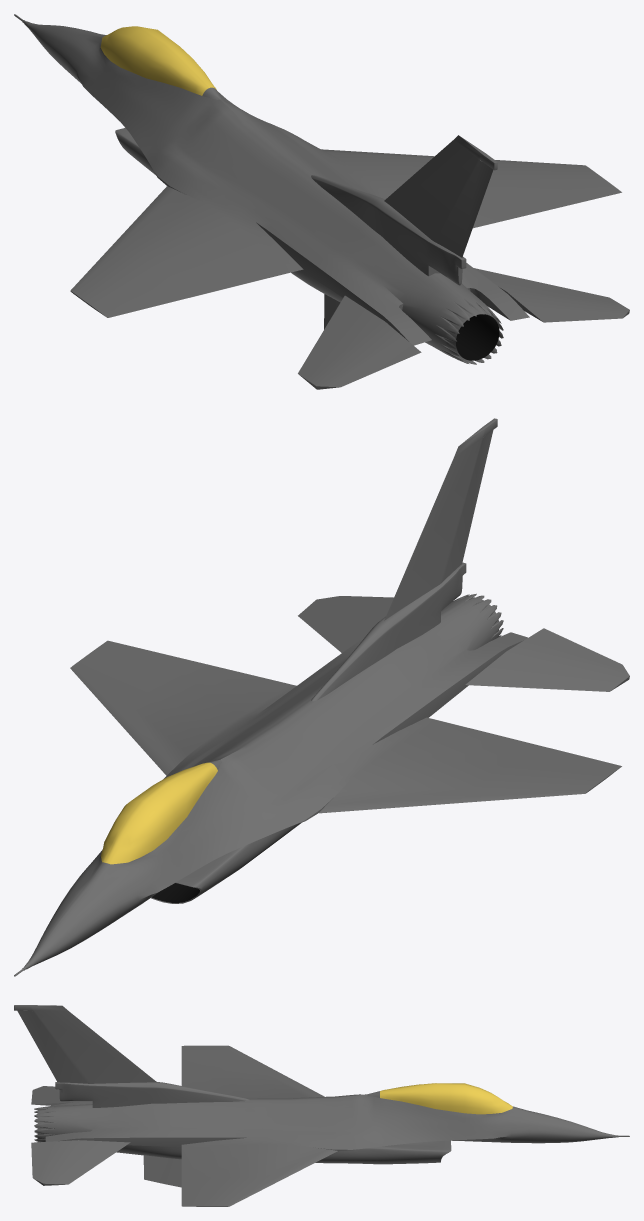
File: F-16 W Modifiers Model.fbx
The picture shows the model from 3 angles, top to bottom: view 1: azimuth 30°, elevation 25°; view 2: azimuth 150°, elevation 25°; view 3: azimuth 270°, elevation 25°; orthographic projection. The views are drawn at different scales.
Parts seen in each view (by area): view 1: F-16, F-16-Glass; view 2: F-16, F-16-Glass; view 3: F-16, F-16-Glass.
Part boxes in pixels (left/top/right/bottom): F-16: left=14, top=14, right=629, bottom=389; F-16-Glass: left=100, top=26, right=220, bottom=99; F-16: left=14, top=418, right=629, bottom=976; F-16-Glass: left=100, top=759, right=220, bottom=864; F-16: left=14, top=1005, right=629, bottom=1206; F-16-Glass: left=367, top=1083, right=512, bottom=1114.
Bounding box in the file's own units: 4700 × 2331 × 7618.
